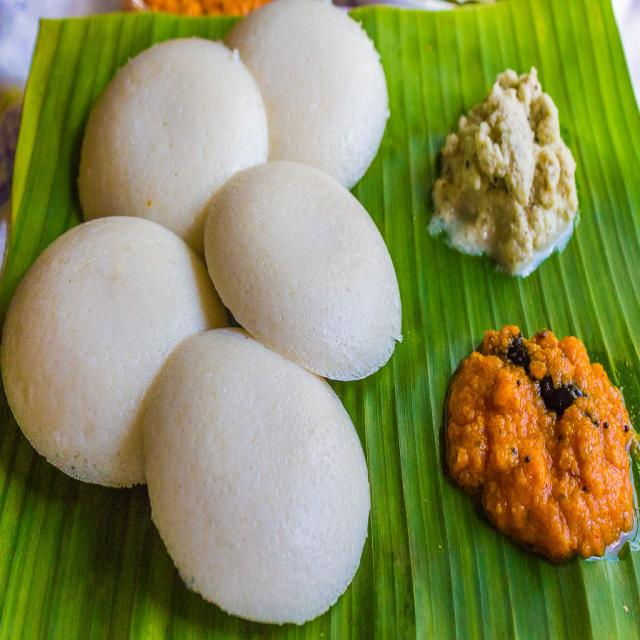Wet Waste: (138, 318, 384, 620), (0, 194, 240, 498), (66, 30, 271, 286), (198, 151, 400, 388), (212, 2, 392, 201), (421, 58, 574, 270)
